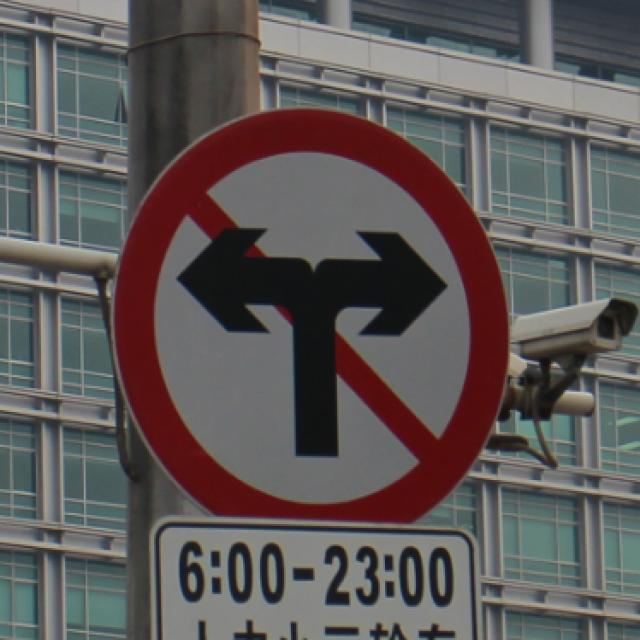Not that Direction: (116, 111, 504, 518)
